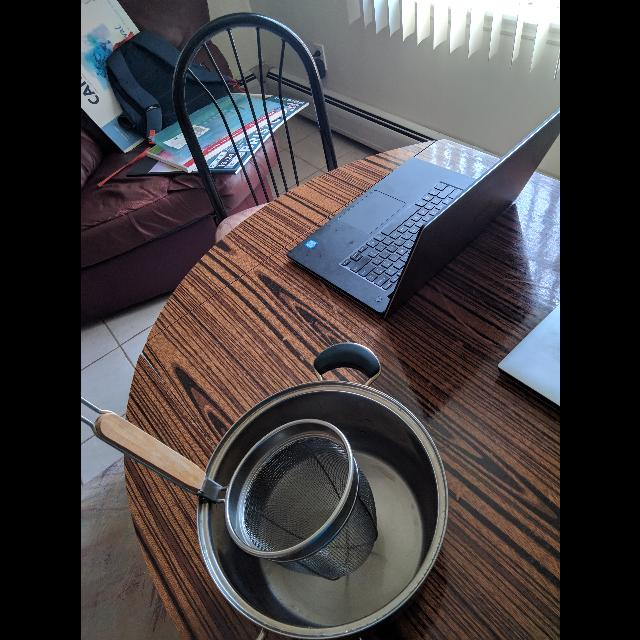Handle: (80, 386, 225, 519)
Strainer: (219, 414, 362, 566)
